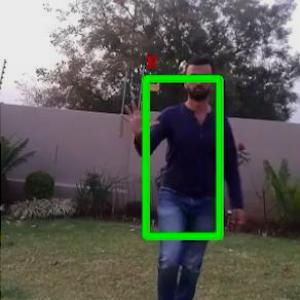follow_hand: (116, 95, 161, 134)
